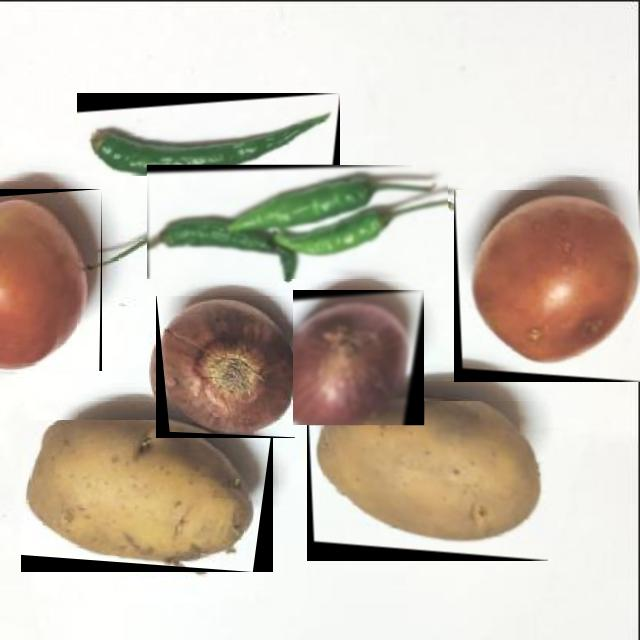Pepper: (147, 166, 448, 280), (77, 93, 340, 176)
onion: (154, 296, 294, 438), (293, 290, 424, 425)
potato: (307, 401, 548, 561), (21, 420, 273, 572)
tomato: (454, 190, 640, 382), (0, 189, 102, 371)
